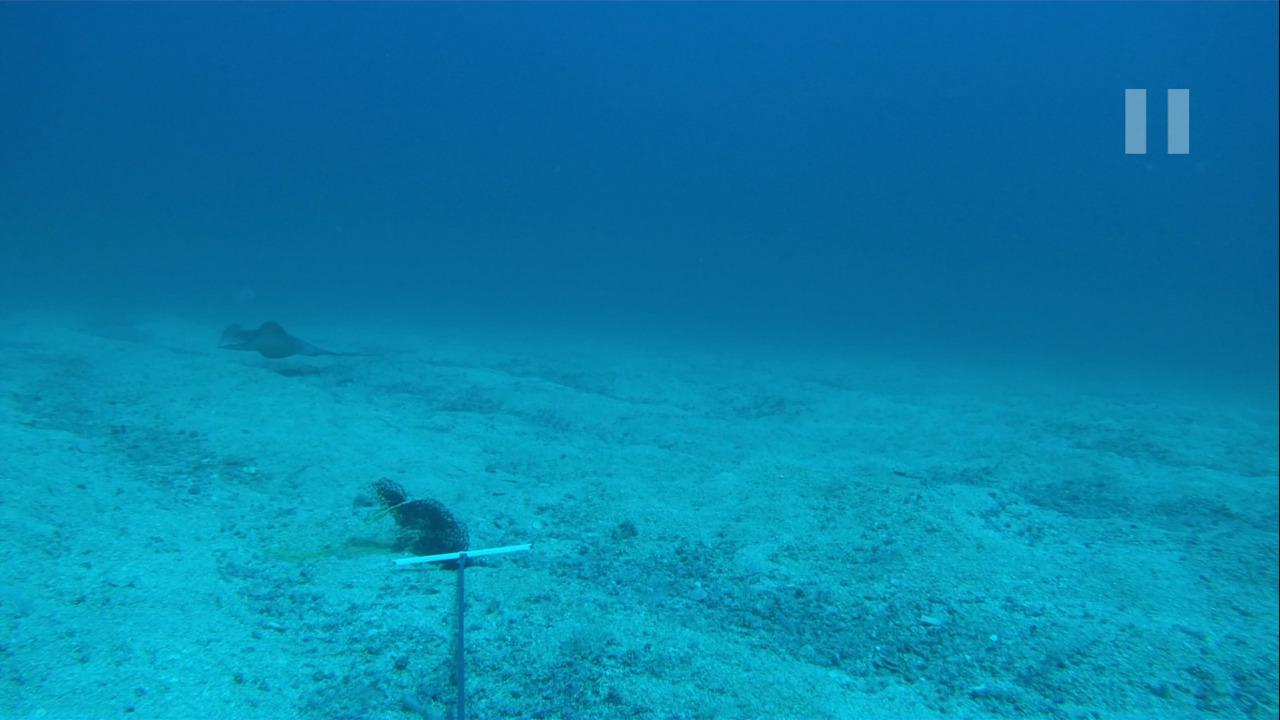myliobatis: (209, 314, 381, 365)
